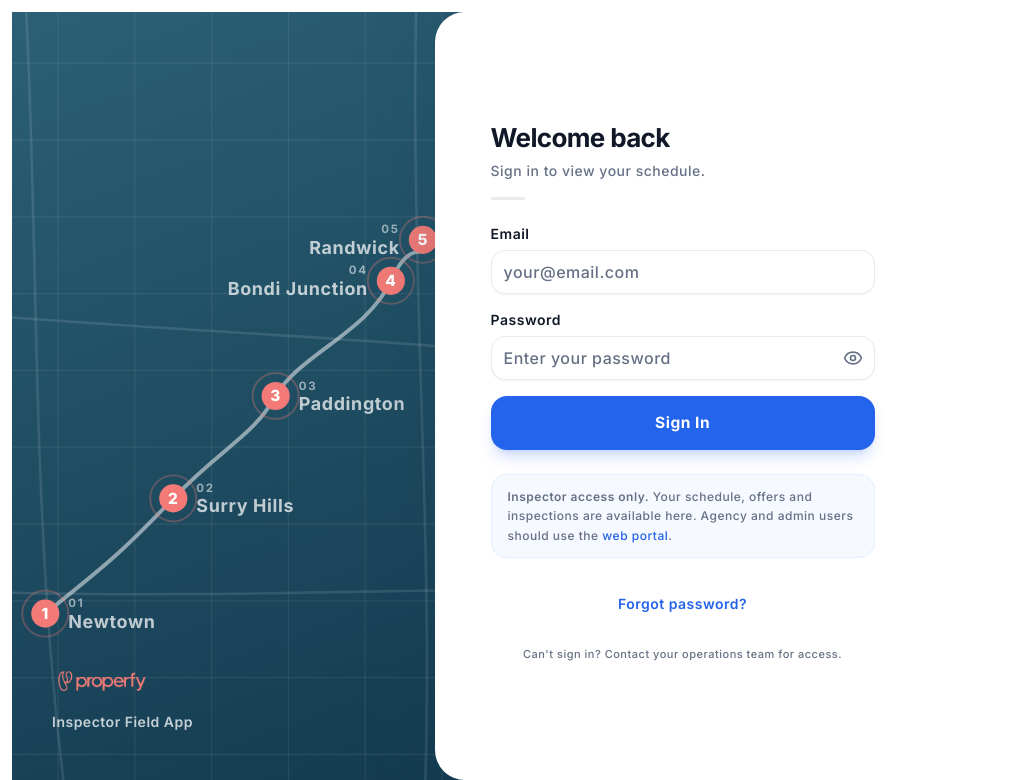
Test: LoginPage › shows a "required" message for an empty email, not a format error
This screenshot has width=1036, height=780.
// Leave email empty, fill only the password, then submit.
Step 1. Type "password123" into the password field with test id "password-input" → x=682, y=358, box [490,336,874,380]
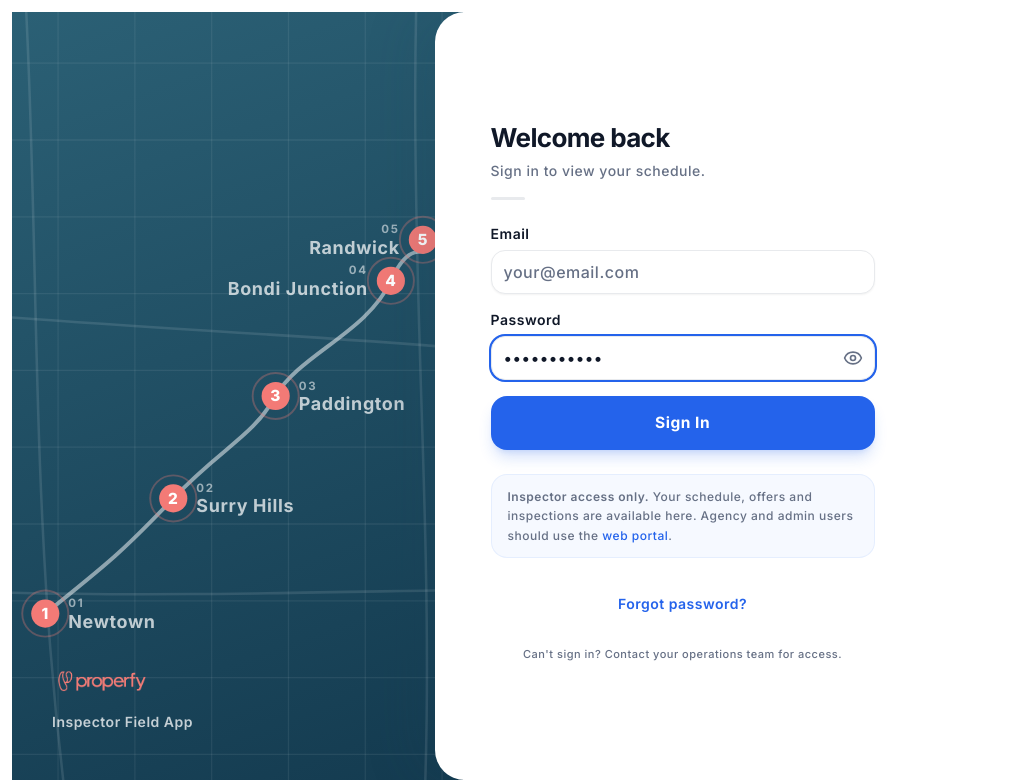
Step 2. Click the button with test id "login-button" → x=682, y=422, box [490,396,874,450]
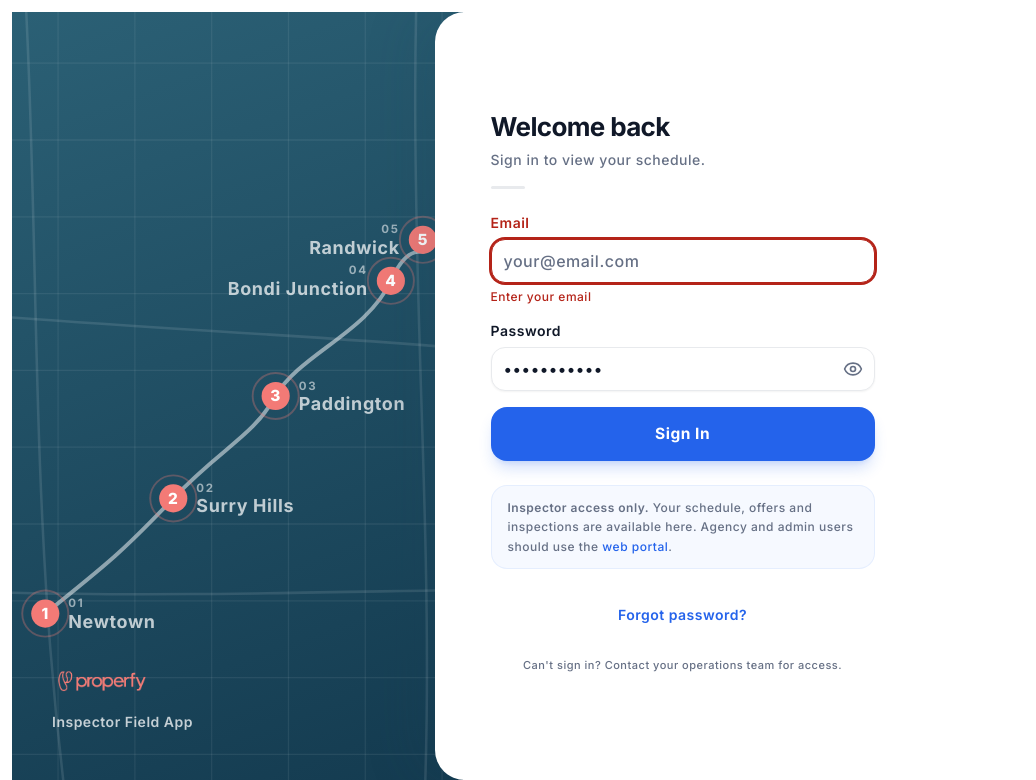
expect the text "Enter your email" is shown: met, box [490,288,591,304]
